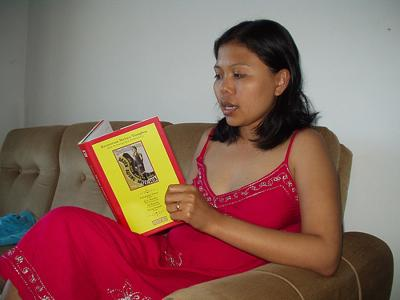person: (1, 20, 346, 300)
